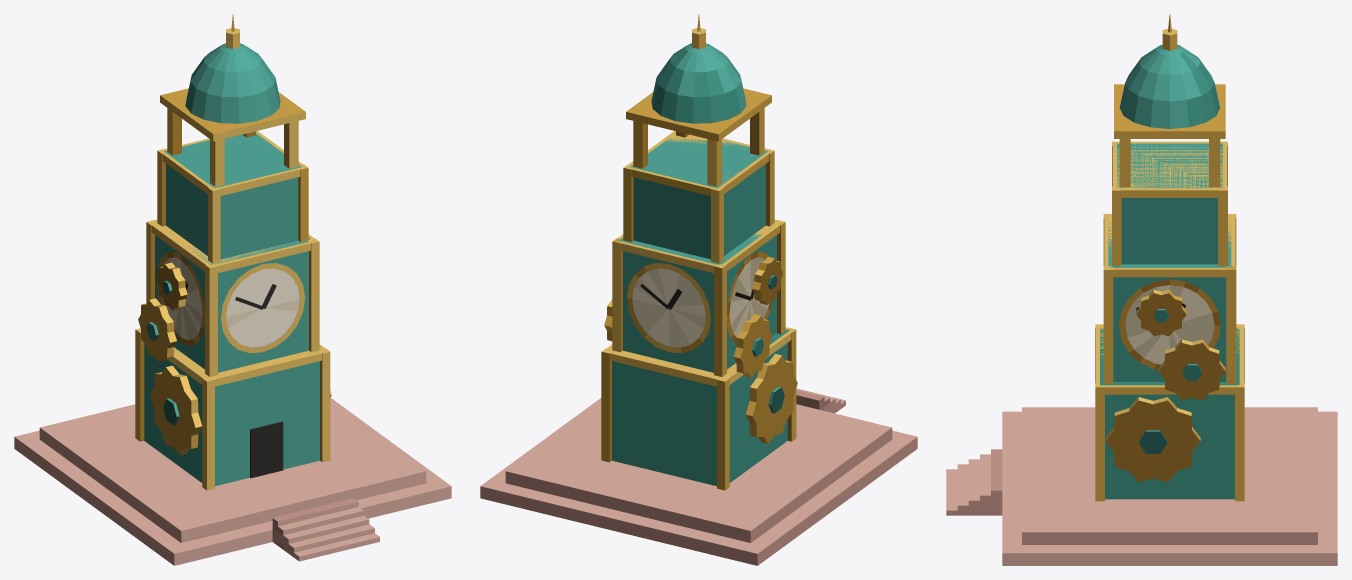
Rendered from landmark.glb.
The picture shows the model from 3 angles, left to right: view 1: azimuth 30°, elevation 25°; view 2: azimuth 150°, elevation 25°; view 3: azimuth 270°, elevation 25°; orthographic projection. The views are drawn at different scales.
Visible parts, largest first — view 1: clocktower; view 2: clocktower; view 3: clocktower.
Boxes of the visible parts, x1=… form: clocktower: x1=14, y1=14, x2=451, y2=565; clocktower: x1=480, y1=14, x2=917, y2=565; clocktower: x1=946, y1=14, x2=1337, y2=565.
Bounding box in the file's own units: 24 × 38 × 28.
Materials: 1 (1 with a texture image).
